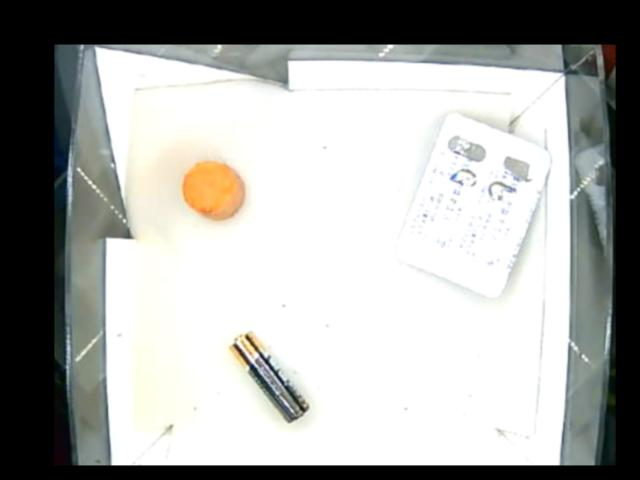Battery: (228, 330, 312, 426)
Carrot: (181, 161, 247, 222)
Medicine: (394, 112, 550, 299)
